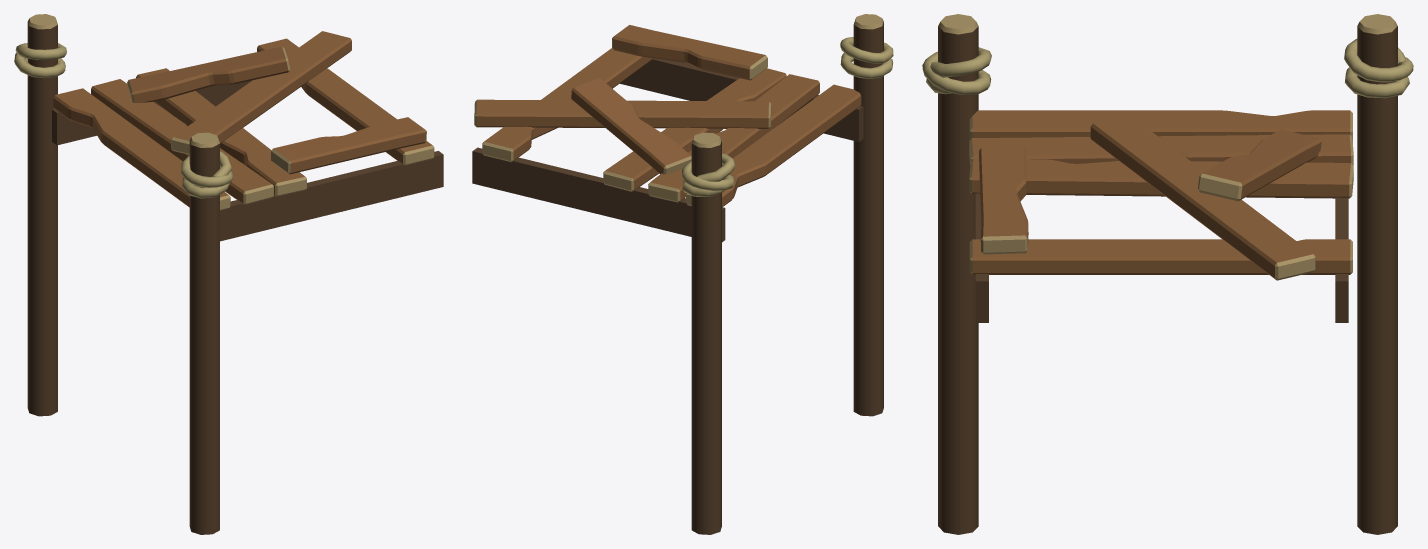
File: Dock Broken.glb
3 views of the same model, side by side, from view 1: azimuth 30°, elevation 25°; view 2: azimuth 150°, elevation 25°; view 3: azimuth 270°, elevation 25° (orthographic). The views are drawn at different scales.
Parts seen in each view (by area): view 1: Environment_Dock_Broken; view 2: Environment_Dock_Broken; view 3: Environment_Dock_Broken.
Boxes of the visible parts, left/top/right/bottom form: Environment_Dock_Broken: left=14, top=14, right=443, bottom=534; Environment_Dock_Broken: left=472, top=14, right=893, bottom=534; Environment_Dock_Broken: left=922, top=14, right=1413, bottom=534.
Bounding box in the file's own units: 2.38 × 3.01 × 2.66.
1 material, 1 textured.
